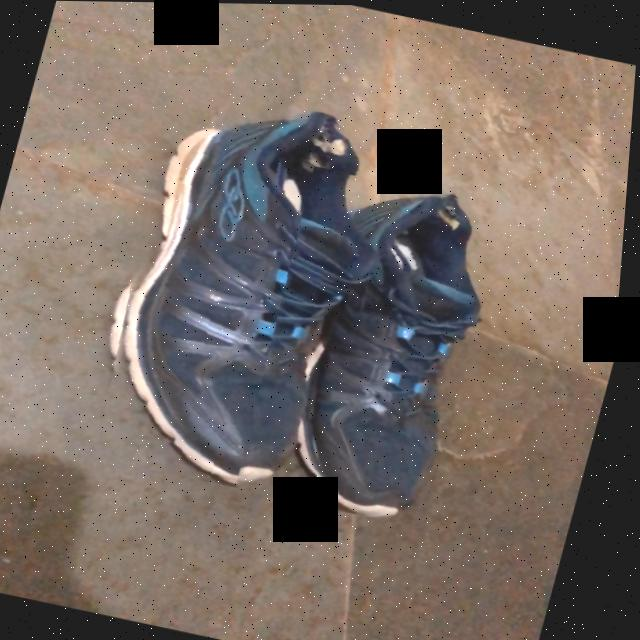shoe: (120, 121, 370, 484), (303, 195, 485, 518)
